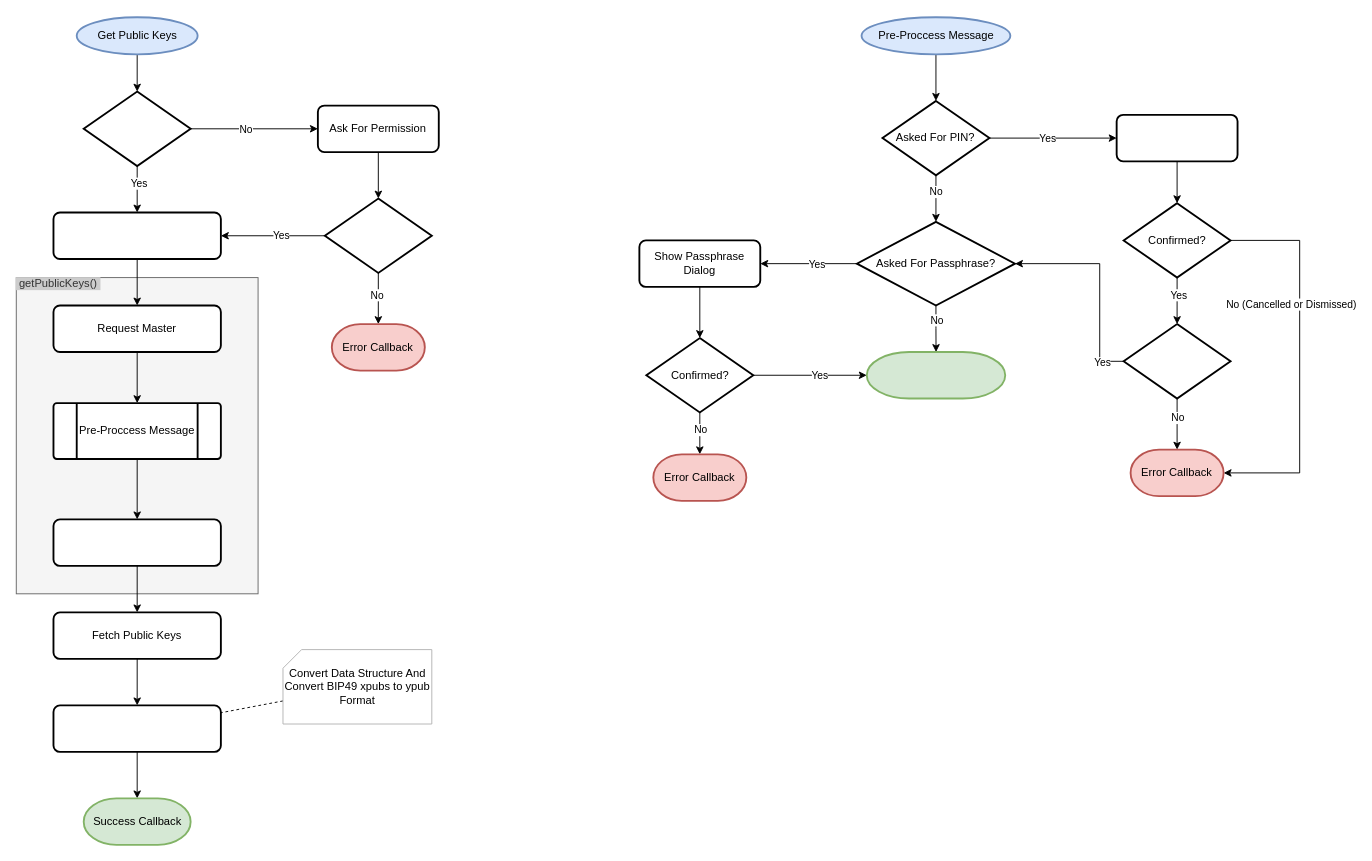
The diagram is 1372 pixels wide and 861 high, and some of its shapes have lost their labels. The shapes that lost their labels are listed below. From the top down, each one's centre as x and y in pixels, then its label:
At point 136,128: "Has USB Permission?".
At point 1176,137: "Show PIN Dialog".
At point 136,235: "Initialize (Get Device Features)".
At point 377,235: "Allowed?".
At point 935,375: "onComplete(message)".
At point 1176,361: "Correct?".
At point 136,542: "Receive Master As Message".
At point 136,728: "Transform Data".
